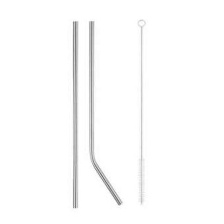drinking_straw: (86, 18, 125, 210), (67, 18, 81, 213)
